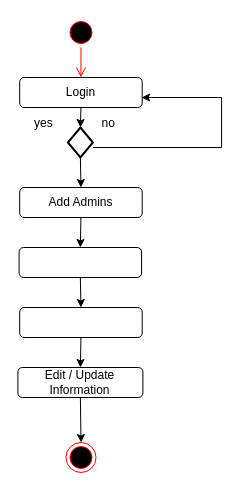
Image size: 247x490. Some labels were removed from this diagram. The centre of each missing label's shape, as x and y in pixels:
"Add/ Delete Blood Banks" belongs at pixel 80 262.
"Add/ Delete Blood Donors" belongs at pixel 80 322.
